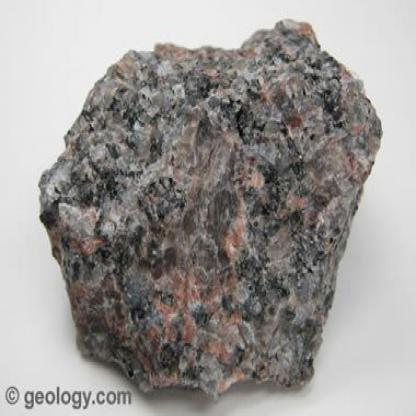Igneous_Granite: (34, 13, 384, 403)
